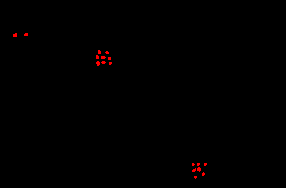Target: (96, 61, 100, 66), (197, 167, 201, 172), (13, 33, 17, 37), (192, 168, 196, 172), (101, 56, 106, 59), (101, 61, 106, 64), (24, 33, 28, 36), (98, 50, 101, 54), (105, 51, 109, 54), (96, 55, 99, 59), (202, 172, 205, 176), (108, 57, 111, 60), (109, 62, 112, 65), (192, 163, 195, 166), (197, 163, 200, 166), (204, 163, 207, 166), (194, 176, 197, 179)
